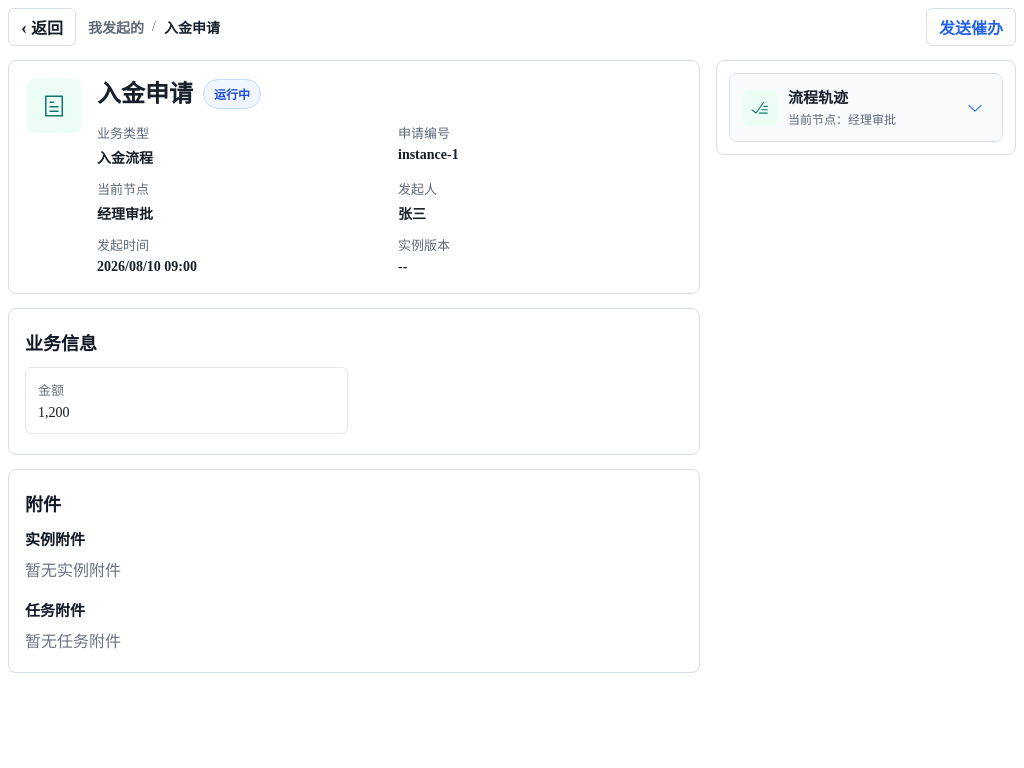
WorkflowDetailView › shows starter reminder action on the initiated instance detail at any time
Click the button with test id "remind-task". click: (971, 27)
box: [926,8,1016,46]
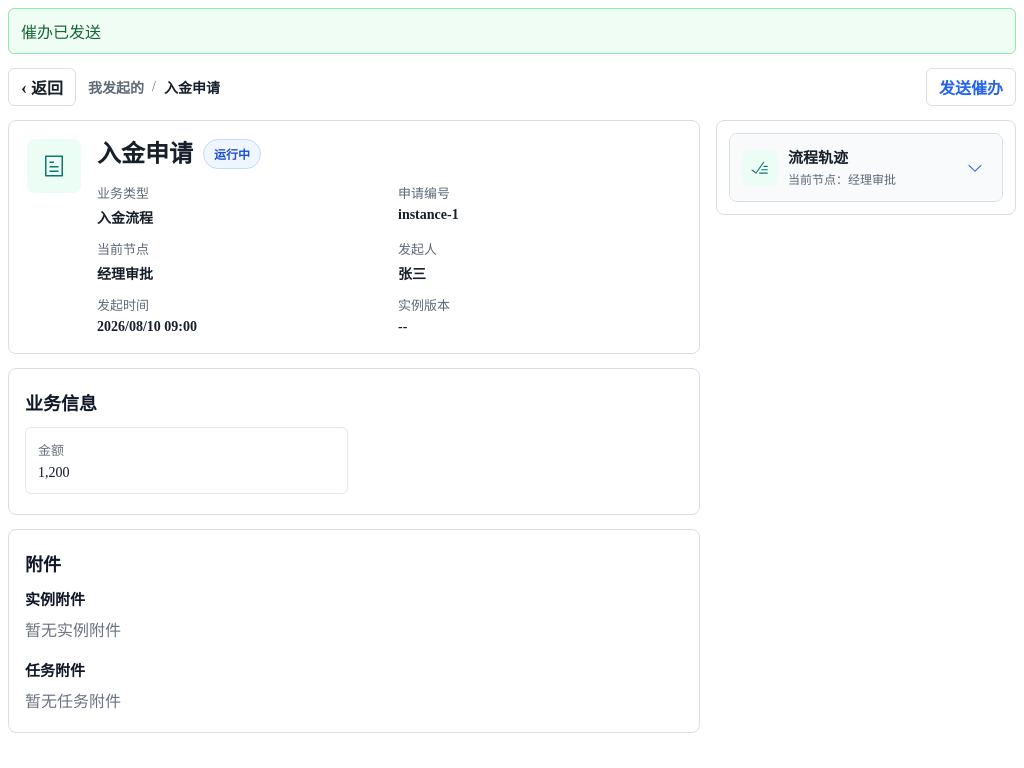
Expected: the text "催办已发送" is shown, [8,8,1016,54]
